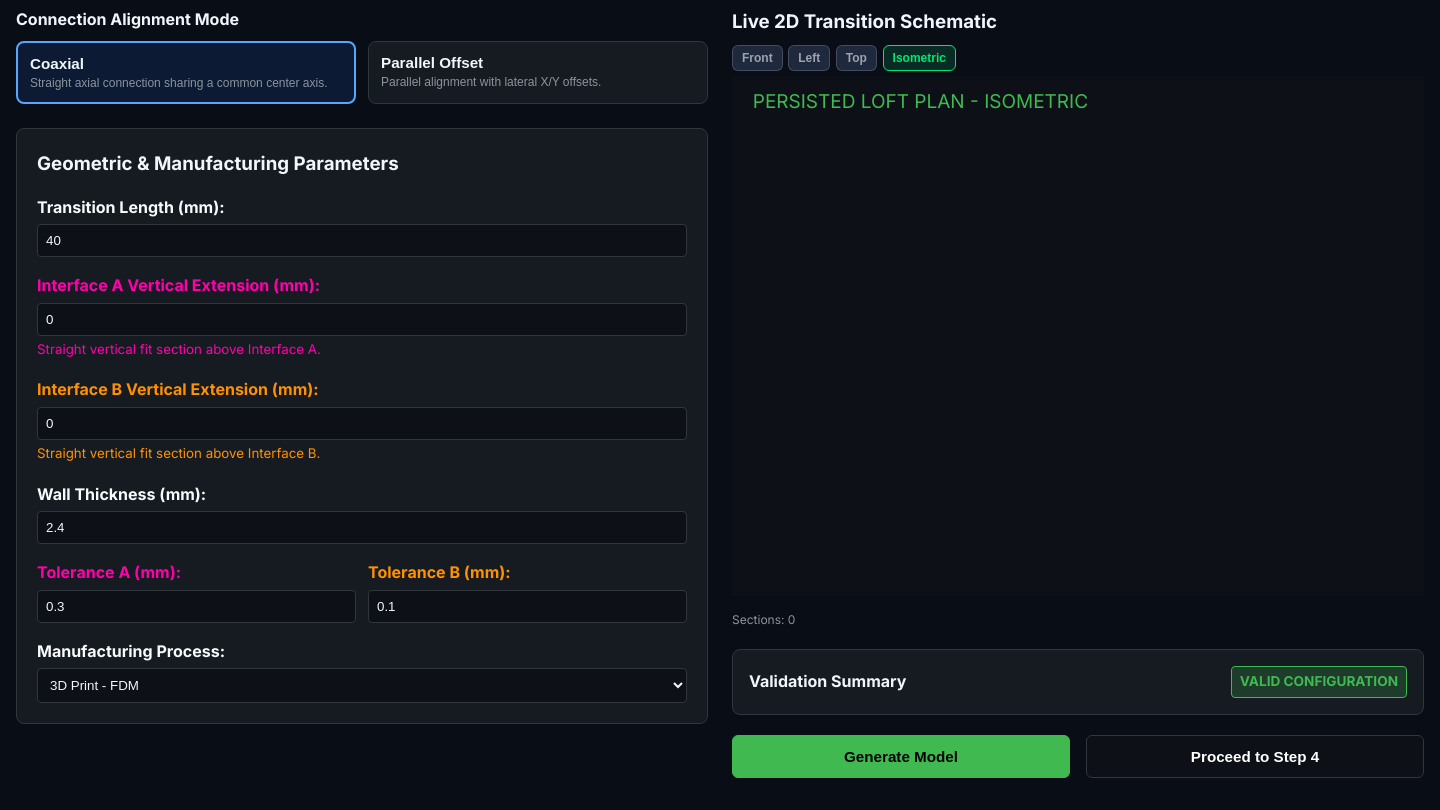
Scenario: ConnectionConfigPage Component (Stage S4C) › displays field-level errors and blocks proceed button when validation fails
(page scrolled)
Click the button "Generate Model" at (901, 756), box [732,735,1070,778]
(page scrolled)
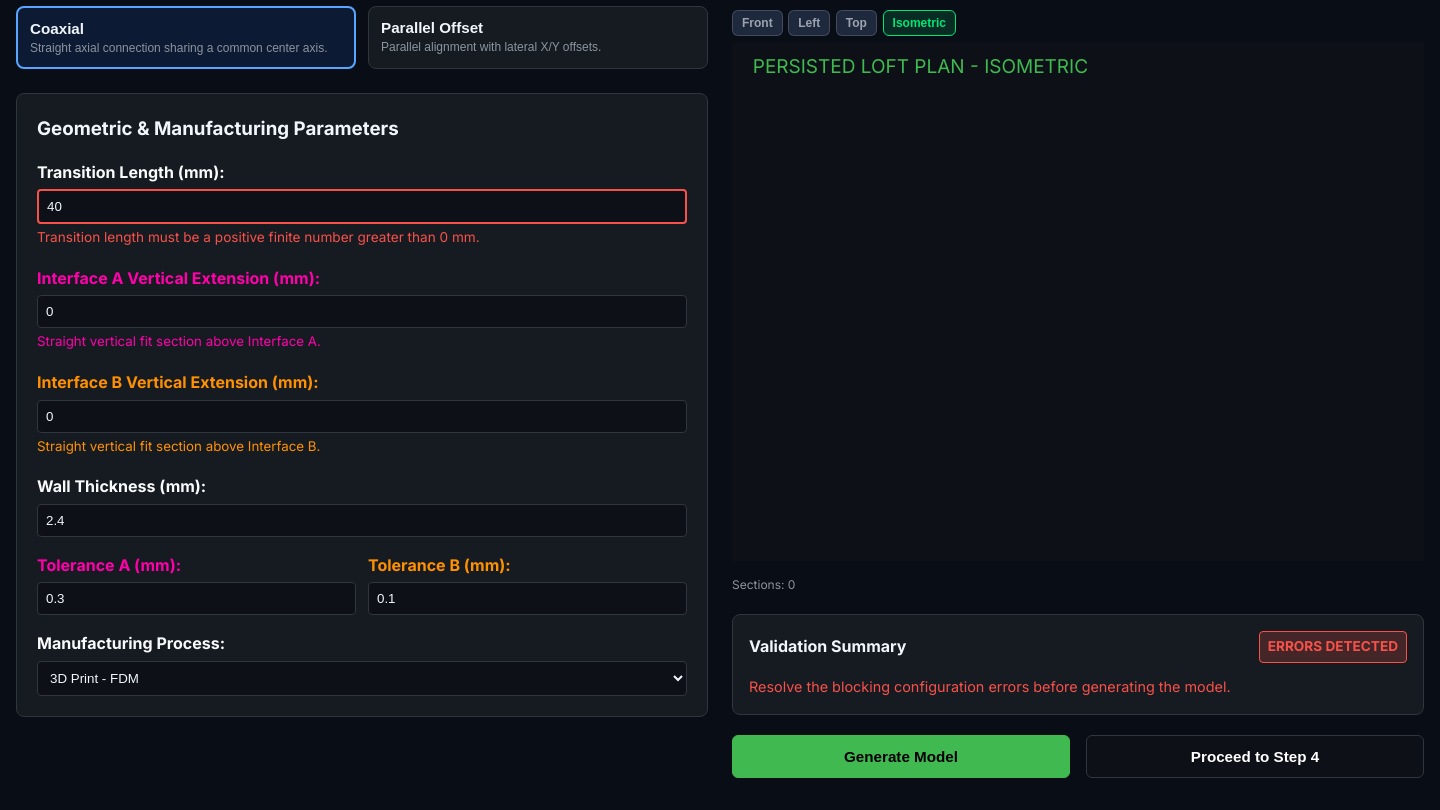
Result: the text "ERRORS DETECTED" is shown at [1259,631,1407,663]
Result: the text "Transition length must be a positive finite number" is shown at [37,229,480,245]
